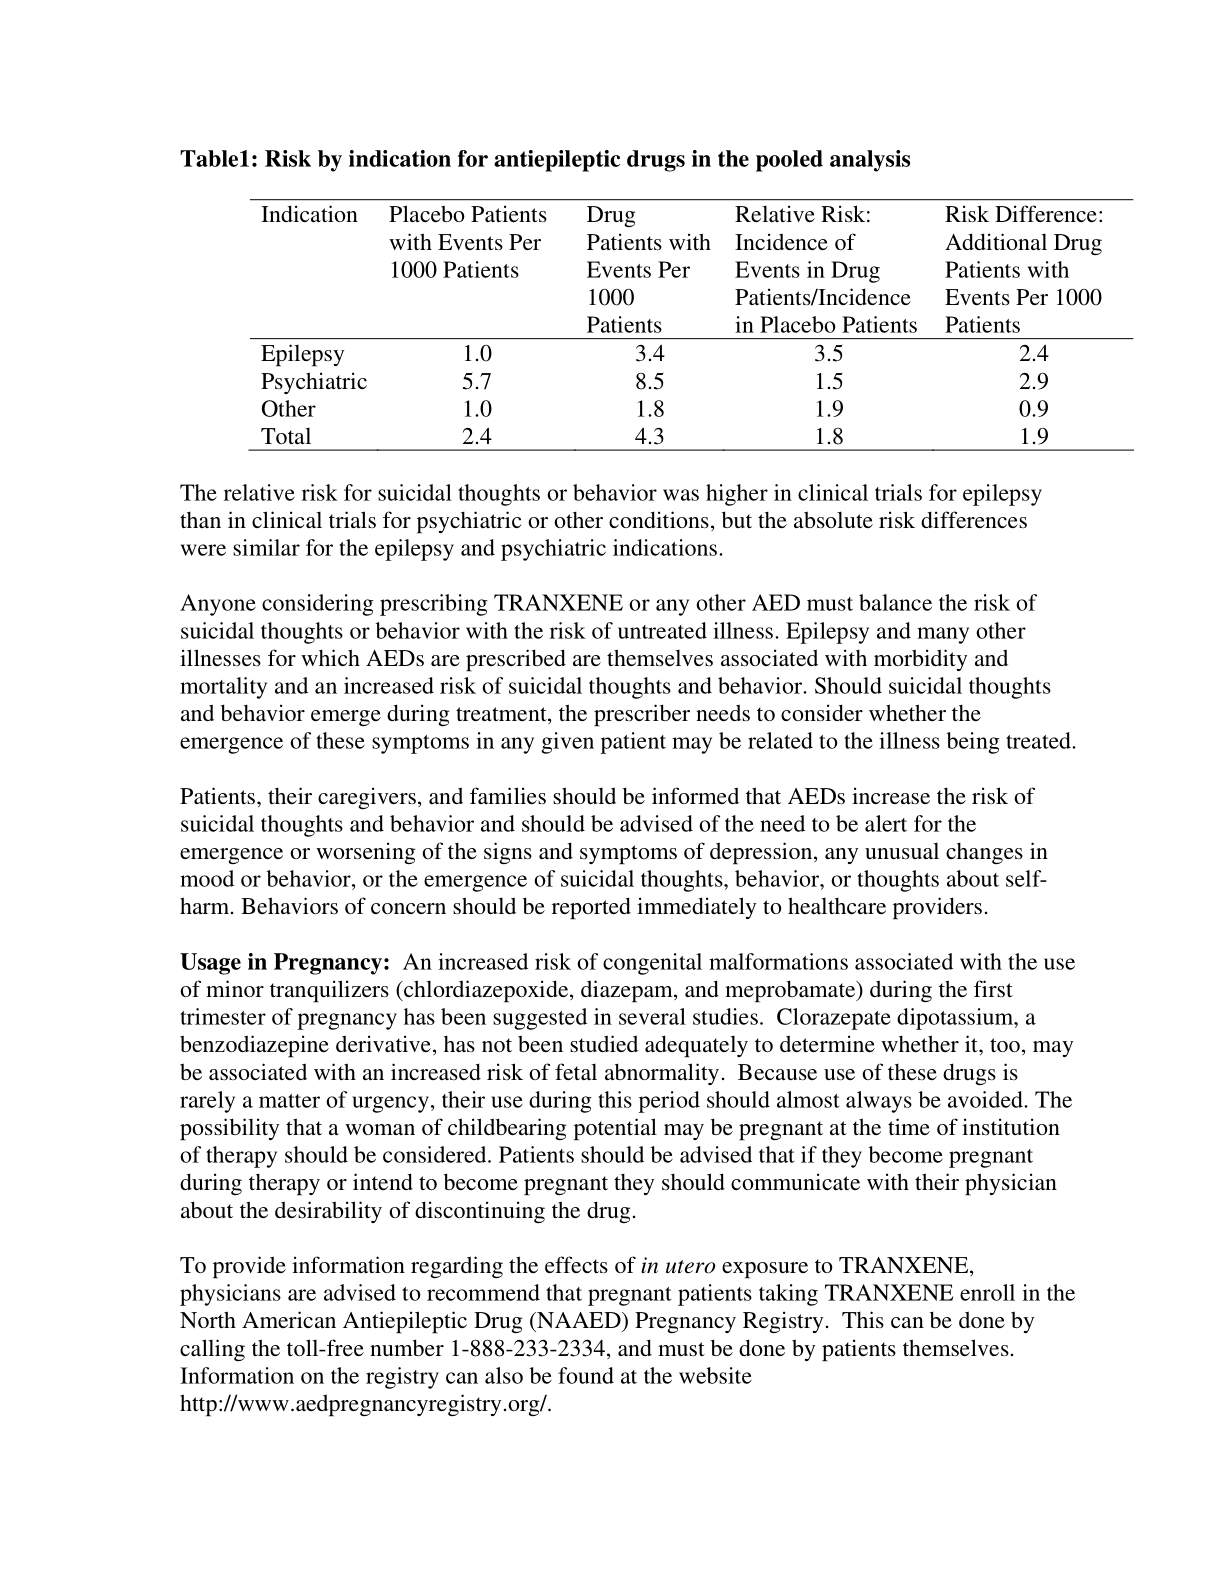partial_lined: (248, 197, 1134, 453)
